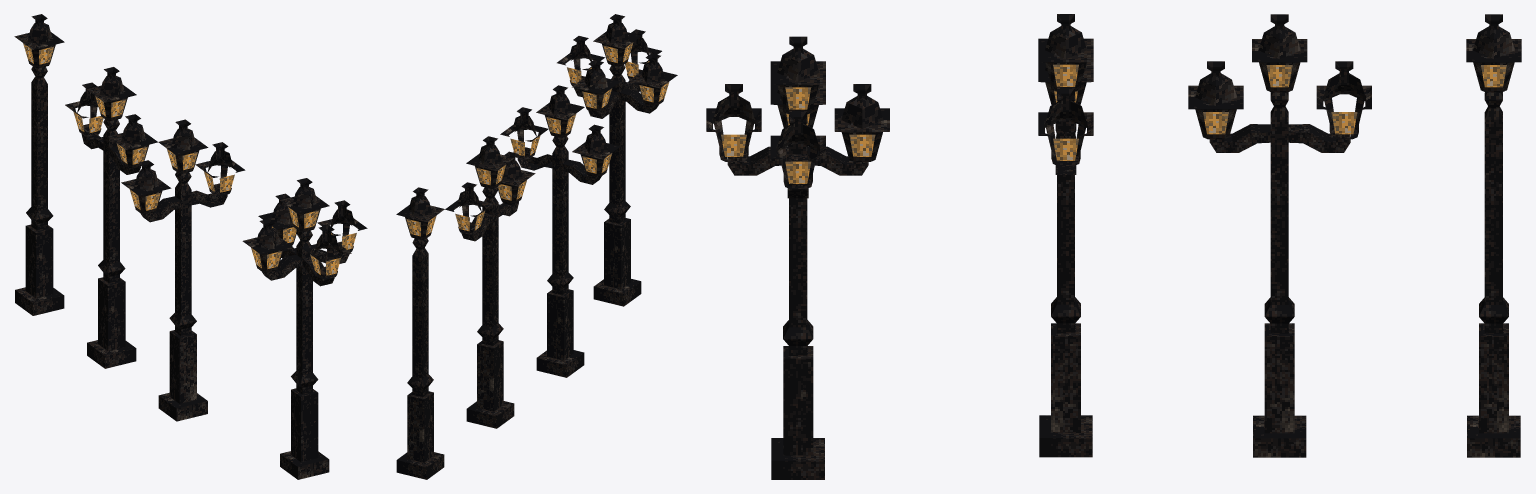
The model's file is luces.glb.
The picture shows the model from 3 angles, left to right: view 1: azimuth 30°, elevation 25°; view 2: azimuth 150°, elevation 25°; view 3: azimuth 270°, elevation 25°; orthographic projection. The views are drawn at different scales.
Visible parts, largest first — view 1: faro3, faro2alt, faro2, faro; view 2: faro3, faro2alt, faro2, faro; view 3: faro3, faro2, faro2alt, faro.
Boxes of the visible parts, x1=… form: faro3: x1=242, y1=178, x2=367, y2=479; faro2alt: x1=121, y1=119, x2=245, y2=421; faro2: x1=65, y1=67, x2=157, y2=368; faro: x1=14, y1=14, x2=64, y2=315; faro3: x1=557, y1=14, x2=677, y2=306; faro2alt: x1=500, y1=85, x2=620, y2=377; faro2: x1=445, y1=136, x2=535, y2=428; faro: x1=396, y1=187, x2=444, y2=479; faro3: x1=706, y1=36, x2=889, y2=479; faro2: x1=1188, y1=14, x2=1371, y2=457; faro2alt: x1=1038, y1=14, x2=1093, y2=457; faro: x1=1466, y1=14, x2=1521, y2=457.
Size of the model in its own units: 2.21 by 4.41 by 7.61.
Materials: 2 (2 with a texture image).
